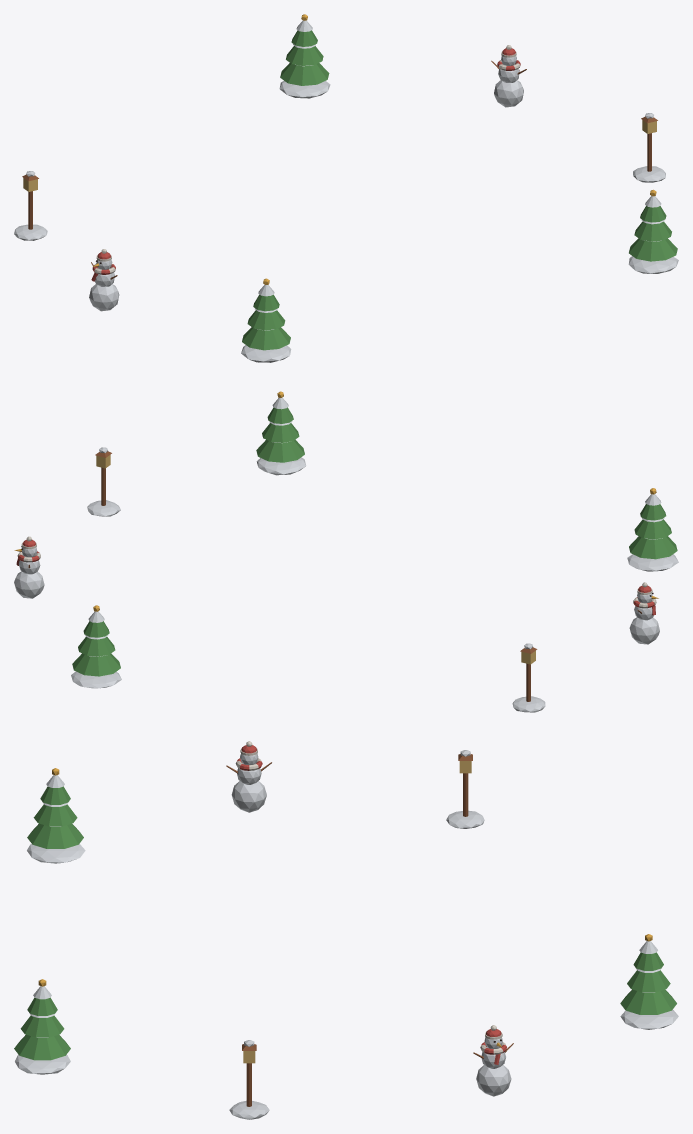
Rendered from goo_jar_props@winter.fbx.
The picture shows the model from 3 angles, top to bottom: view 1: azimuth 30°, elevation 25°; view 2: azimuth 150°, elevation 25°; view 3: azimuth 270°, elevation 25°; orthographic projection. The views are drawn at different scales.
Visible parts, largest first — view 1: goo_jar_props; view 2: goo_jar_props; view 3: goo_jar_props.
Part boxes in pixels (left/top/right/bottom): goo_jar_props: left=14, top=14, right=678, bottom=362; goo_jar_props: left=14, top=391, right=678, bottom=712; goo_jar_props: left=14, top=741, right=678, bottom=1119.
Bounding box in the file's own units: 68.35 × 8.87 × 60.56.
